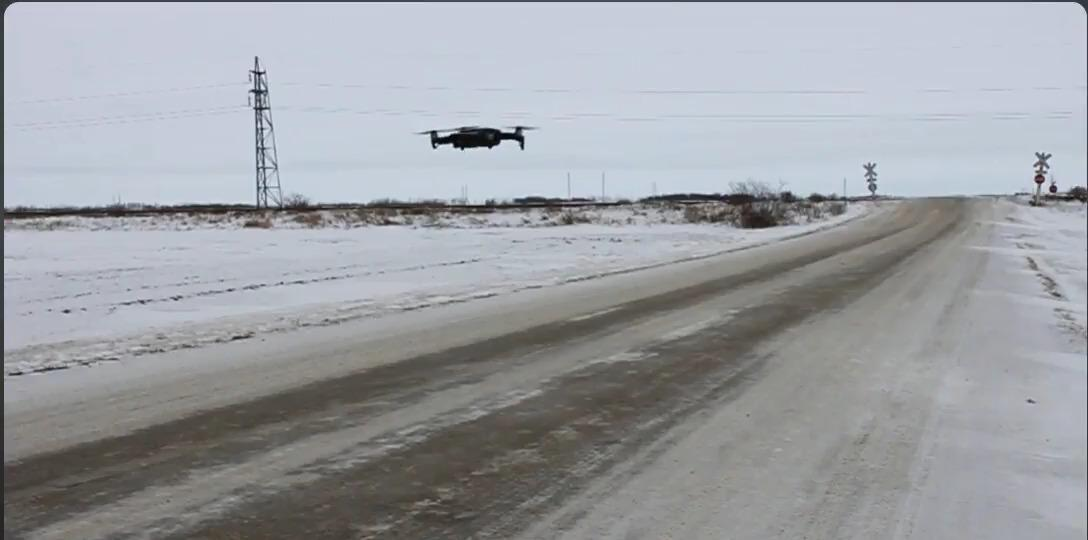dr: (406, 97, 557, 185)
